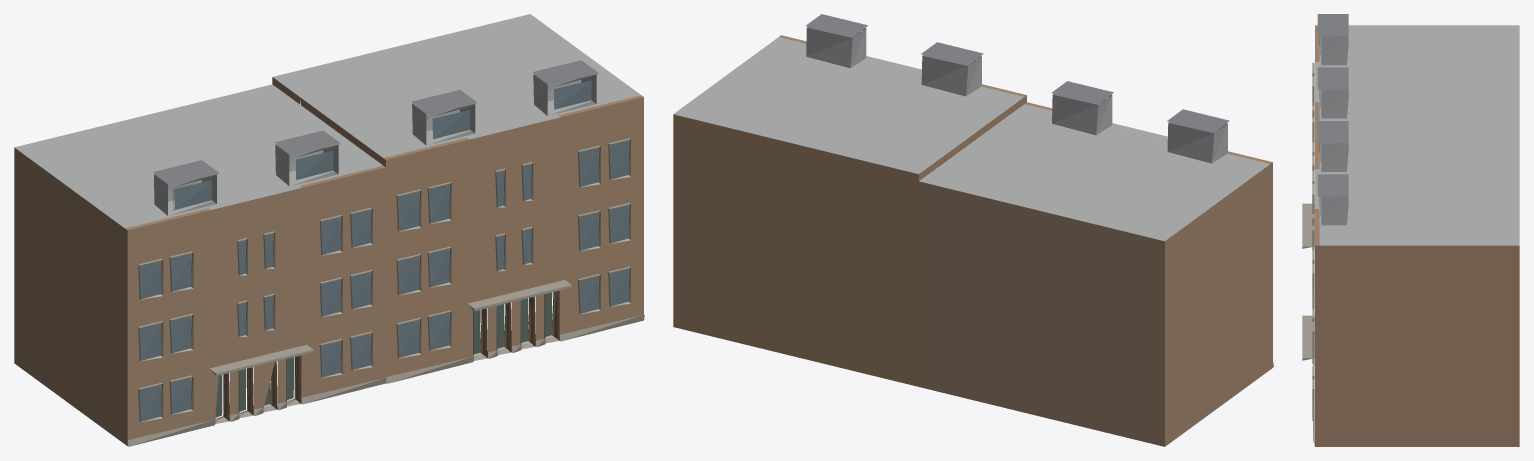
The model's file is chunk-face-andringa-4-32-r1.lod2.glb.
3 renders of one model, left to right at view 1: azimuth 30°, elevation 25°; view 2: azimuth 150°, elevation 25°; view 3: azimuth 270°, elevation 25°, orthographic. The views are drawn at different scales.
Visible parts, largest first — view 1: lod2; view 2: lod2; view 3: lod2.
Part boxes in pixels (left/top/right/bottom): lod2: left=14, top=14, right=644, bottom=446; lod2: left=673, top=14, right=1273, bottom=446; lod2: left=1302, top=14, right=1519, bottom=446.
Bounding box in the file's own units: 25.62 × 12.2 × 10.35.
